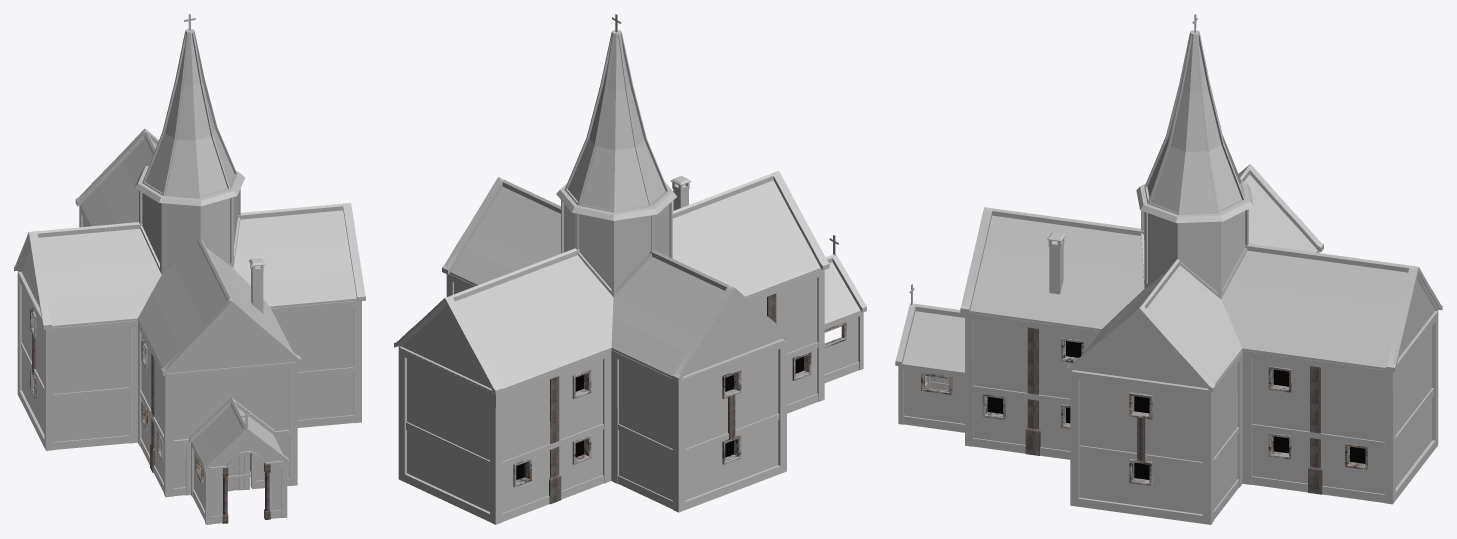
The model's file is Igreja1.fbx.
3 views of the same model, side by side, from view 1: azimuth 30°, elevation 25°; view 2: azimuth 150°, elevation 25°; view 3: azimuth 270°, elevation 25° (orthographic). The views are drawn at different scales.
Parts seen in each view (by area): view 1: Igreja1; view 2: Igreja1; view 3: Igreja1.
Part boxes in pixels (left/top/right/bottom): Igreja1: left=14, top=14, right=365, bottom=524; Igreja1: left=394, top=14, right=866, bottom=524; Igreja1: left=895, top=14, right=1442, bottom=524.
Size of the model in its own units: 1655 by 2025 by 2325.
